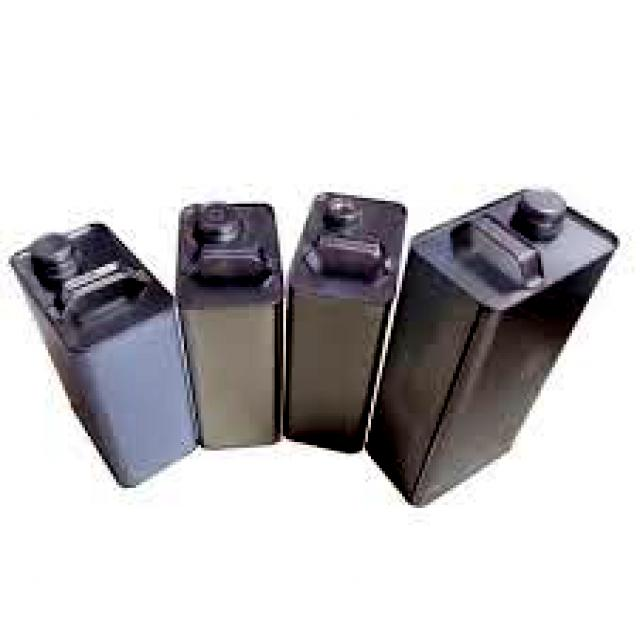Metal: (362, 179, 626, 514), (4, 210, 205, 498), (282, 186, 415, 461), (172, 195, 290, 455)
